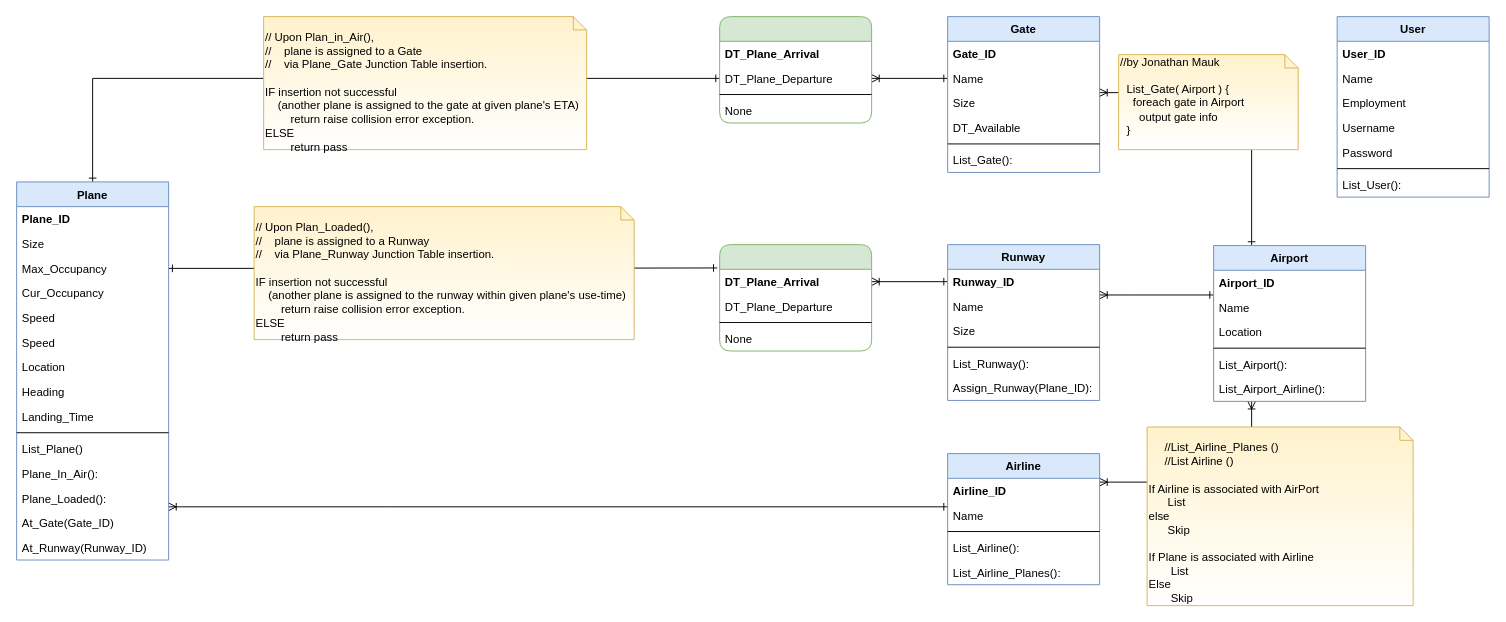
Some shapes in this 1506 by 622 pixel diagram are drawn without their labels. Each missing label, with the box of its shape:
Plane_Gate: (719, 16, 872, 123)
Plane_Runway: (719, 244, 872, 351)
